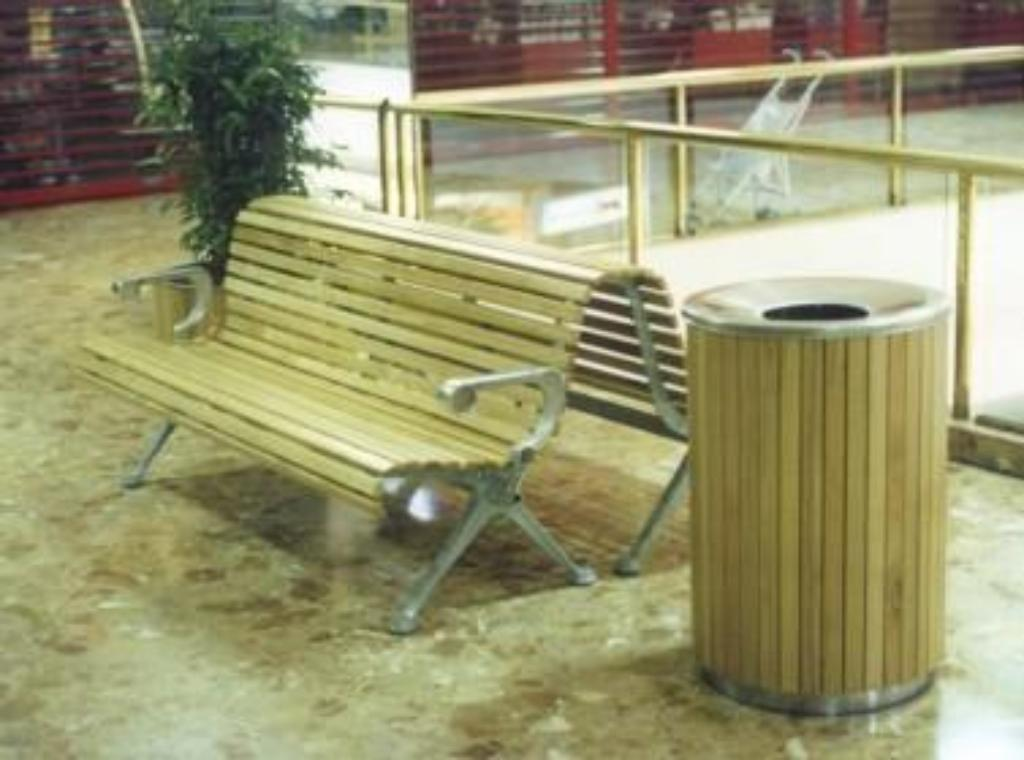dustbin: (667, 270, 968, 719)
